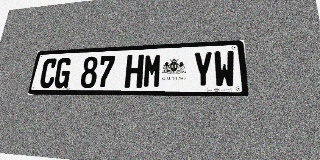7: (96, 56, 116, 88)
8: (79, 56, 99, 88)
C: (38, 58, 58, 88)
G: (53, 57, 73, 88)
H: (124, 54, 144, 88)
M: (142, 53, 162, 88)
W: (213, 50, 236, 88)
Y: (193, 51, 214, 88)
